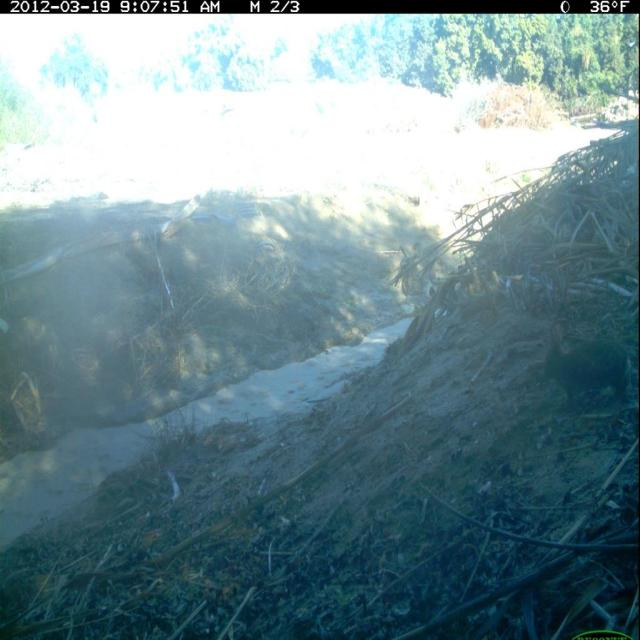rabbit: (541, 324, 637, 413)
